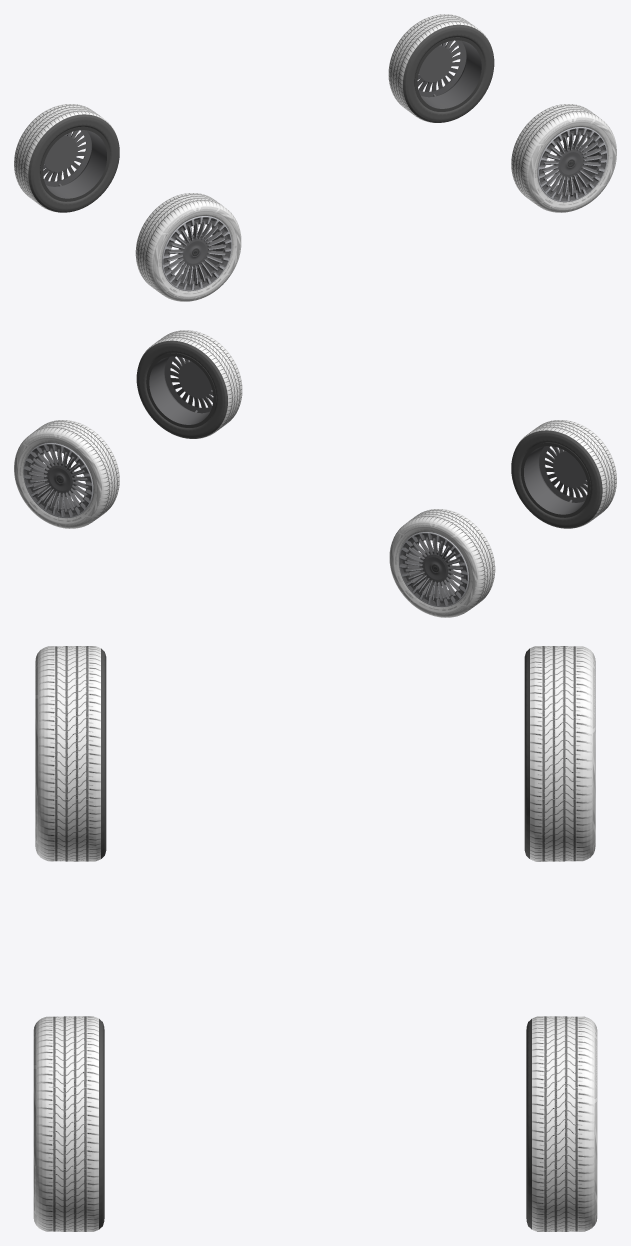
The model's file is wheels-3.glb.
3 renders of one model, top to bottom at view 1: azimuth 30°, elevation 25°; view 2: azimuth 150°, elevation 25°; view 3: azimuth 270°, elevation 25°, orthographic. The views are drawn at different scales.
Parts seen in each view (by area): view 1: wheel_3_30, wheel_3_10, wheel_3_00, wheel_3_20, wheel_3_08, wheel_3_28, wheel_3_39, wheel_3_19, wheel_3_17, wheel_3_37, wheel_3_22, wheel_3_02 (+2 smaller); view 2: wheel_3_20, wheel_3_00, wheel_3_10, wheel_3_30, wheel_3_18, wheel_3_38, wheel_3_29, wheel_3_09, wheel_3_07, wheel_3_27, wheel_3_32, wheel_3_12 (+2 smaller); view 3: wheel_3_00, wheel_3_10, wheel_3_20, wheel_3_30.
Boxes of the visible parts, bbox=[...] form: wheel_3_30: bbox=[388, 14, 494, 122]; wheel_3_10: bbox=[14, 104, 119, 212]; wheel_3_00: bbox=[135, 193, 241, 301]; wheel_3_20: bbox=[511, 104, 616, 212]; wheel_3_08: bbox=[163, 217, 231, 290]; wheel_3_28: bbox=[539, 128, 606, 201]; wheel_3_39: bbox=[417, 40, 466, 97]; wheel_3_19: bbox=[43, 130, 91, 186]; wheel_3_17: bbox=[46, 130, 106, 198]; wheel_3_37: bbox=[421, 40, 481, 108]; wheel_3_22: bbox=[537, 127, 607, 202]; wheel_3_02: bbox=[162, 216, 231, 291]; wheel_3_20: bbox=[136, 330, 242, 438]; wheel_3_00: bbox=[511, 420, 616, 528]; wheel_3_10: bbox=[389, 509, 495, 617]; wheel_3_30: bbox=[14, 420, 119, 528]; wheel_3_18: bbox=[399, 533, 467, 606]; wheel_3_38: bbox=[24, 444, 91, 517]; wheel_3_29: bbox=[164, 356, 213, 413]; wheel_3_09: bbox=[539, 446, 587, 502]; wheel_3_07: bbox=[524, 446, 584, 514]; wheel_3_27: bbox=[149, 356, 209, 424]; wheel_3_32: bbox=[23, 443, 93, 518]; wheel_3_12: bbox=[399, 532, 468, 607]; wheel_3_00: bbox=[35, 646, 106, 861]; wheel_3_10: bbox=[524, 646, 595, 861]; wheel_3_20: bbox=[33, 1016, 104, 1231]; wheel_3_30: bbox=[526, 1016, 597, 1231].
Size of the model in its own units: 3.84 by 0.7824 by 2.
Materials: 8 (1 with a texture image).
